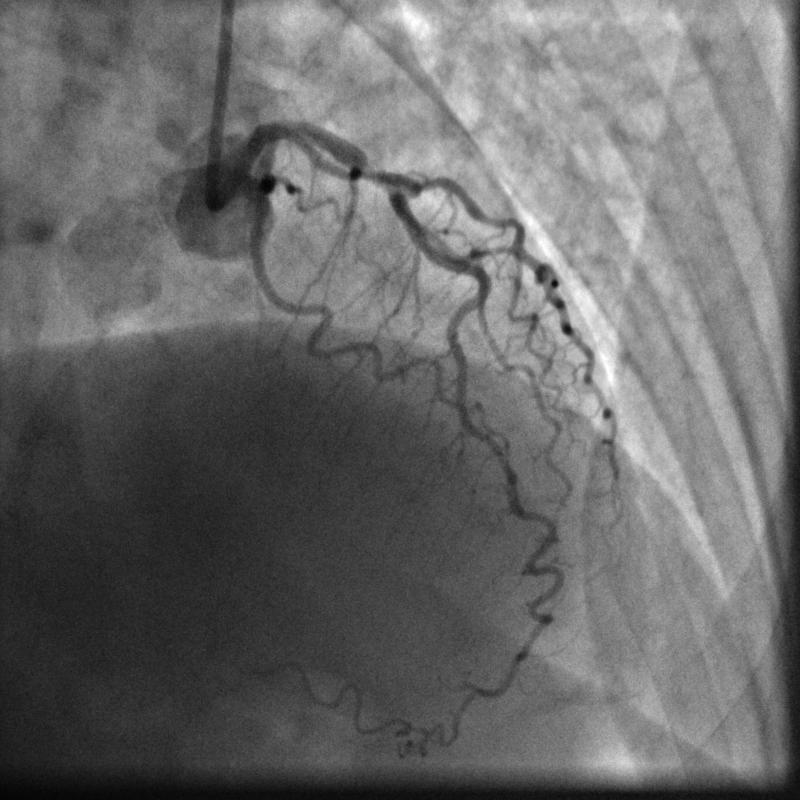Stenosis: (357, 158, 381, 191)
